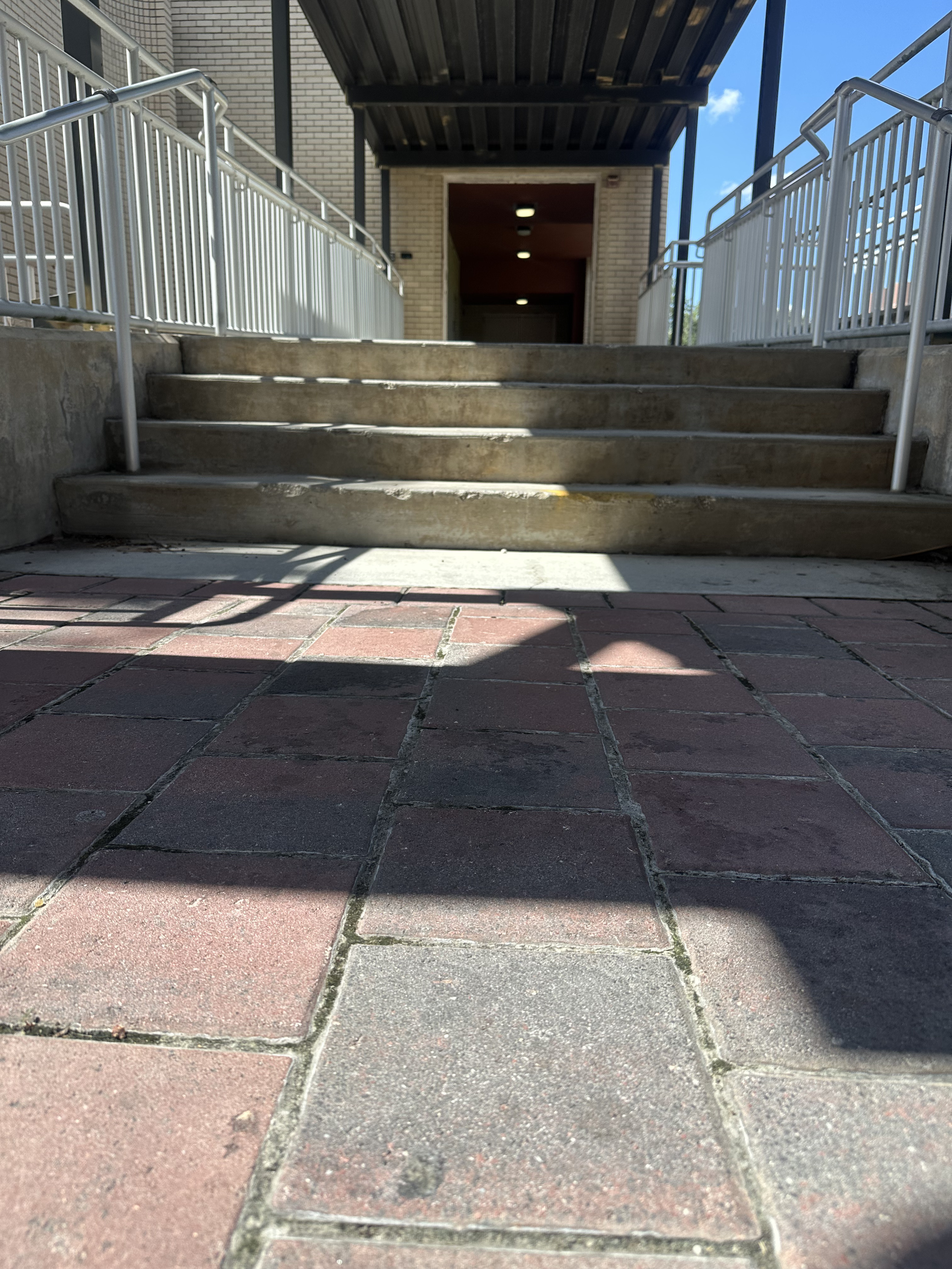stairs: (55, 334, 952, 559)
